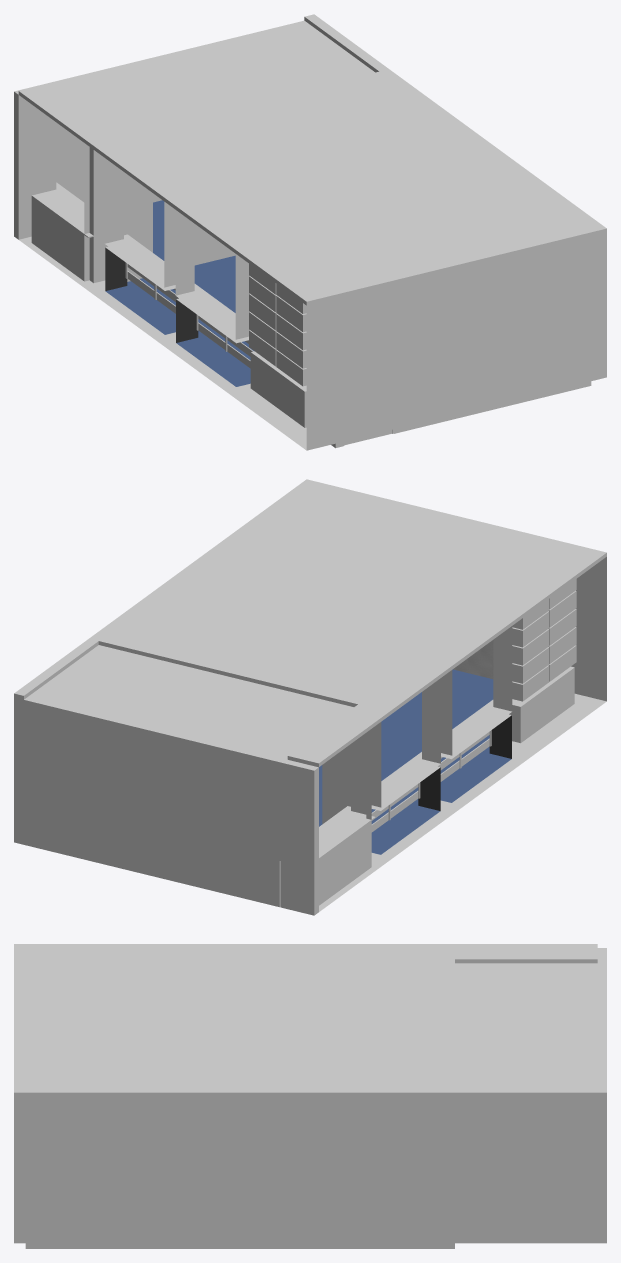
File: labmodell1.fbx
3 renders of one model, top to bottom at view 1: azimuth 30°, elevation 25°; view 2: azimuth 150°, elevation 25°; view 3: azimuth 270°, elevation 25°, orthographic.
Parts seen in each view (by area): view 1: Group1; view 2: Group1; view 3: Group1.
Boxes of the visible parts, <box> form: Group1: <box>14,14,606,450</box>; Group1: <box>14,479,606,915</box>; Group1: <box>14,944,606,1248</box>.
Size of the model in its own units: 609 by 308 by 1028.
